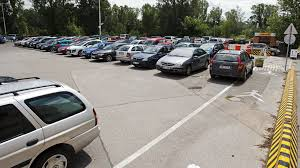car: (155, 46, 213, 76), (208, 47, 253, 84), (130, 46, 176, 68), (113, 43, 146, 63), (66, 39, 104, 56), (91, 43, 127, 60), (82, 41, 113, 59), (199, 41, 225, 56)
